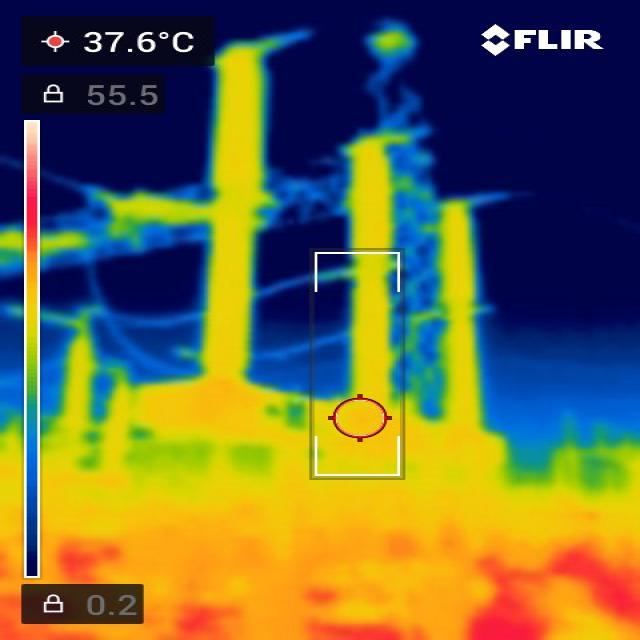Zona_Atenco: (446, 526, 627, 616)
Zona_Critica: (467, 603, 551, 638)
